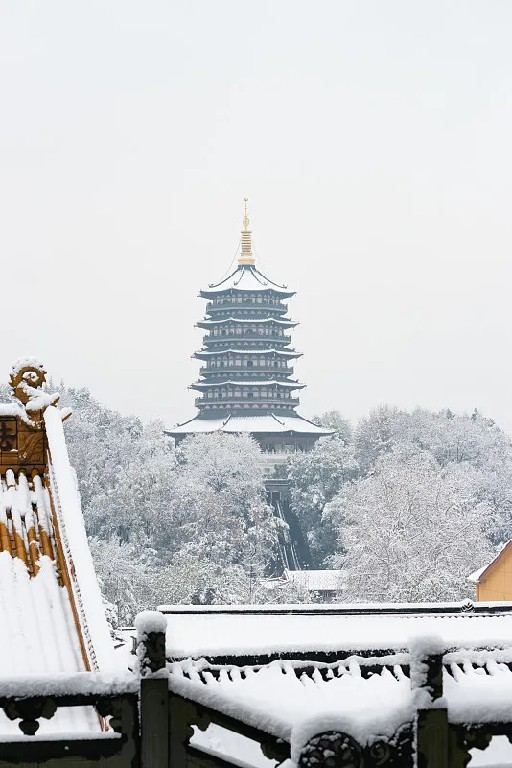Leifeng: (186, 196, 307, 417)
